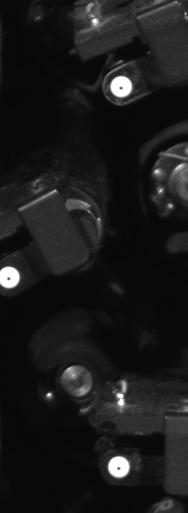fiber: (106, 72, 138, 100), (106, 450, 133, 481), (1, 259, 23, 296)
